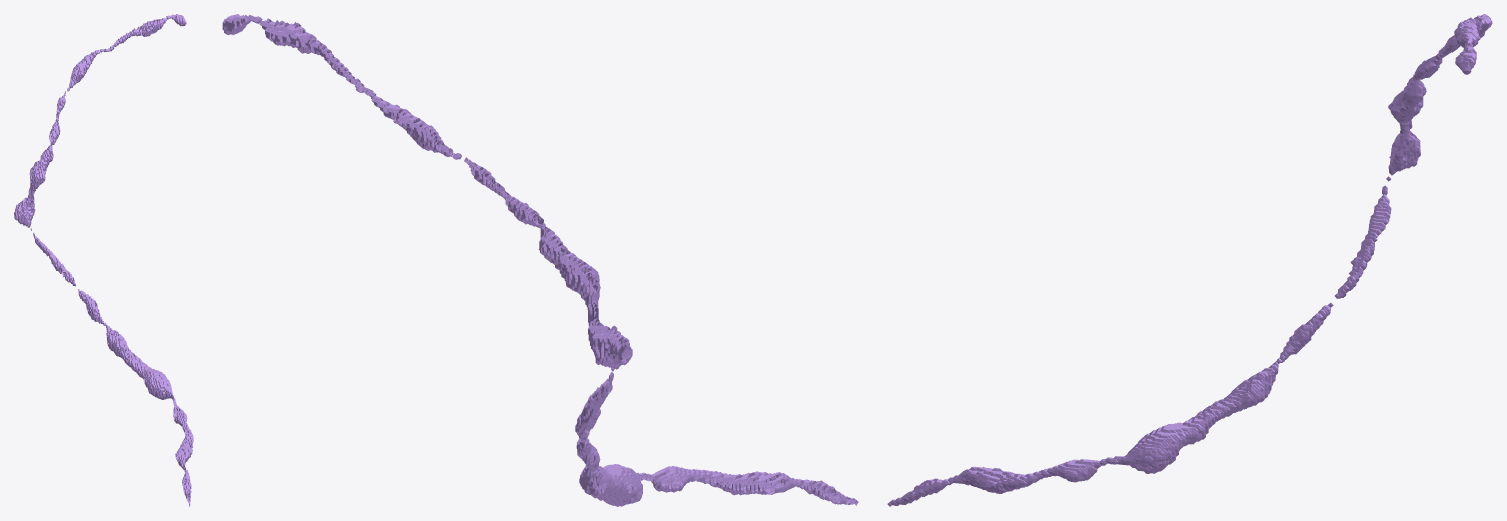
Rendered from SVV_AWAL.gltf.
The picture shows the model from 3 angles, left to right: view 1: azimuth 30°, elevation 25°; view 2: azimuth 150°, elevation 25°; view 3: azimuth 270°, elevation 25°; orthographic projection. The views are drawn at different scales.
Visible parts, largest first — view 1: AWAL; view 2: AWAL; view 3: AWAL.
Boxes of the visible parts, <box> form: AWAL: <box>14,14,193,506</box>; AWAL: <box>222,14,858,506</box>; AWAL: <box>887,14,1492,506</box>.
Size of the model in its own units: 90530 by 153027 by 141963.
